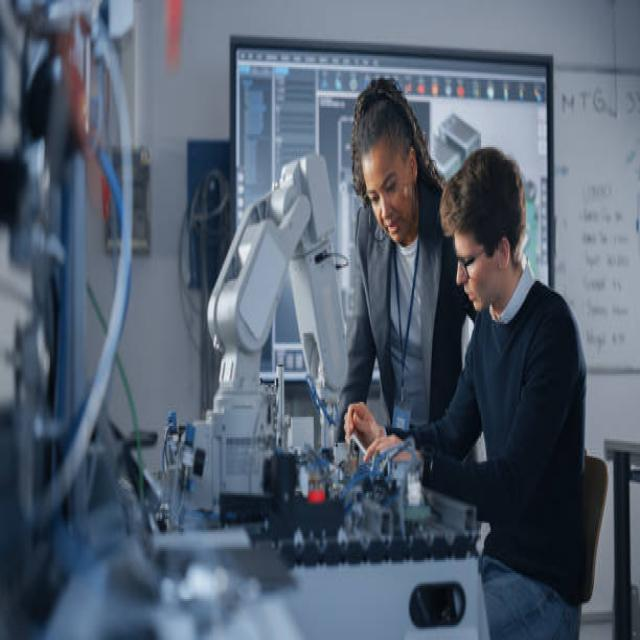Robotic-arm: (203, 142, 353, 494)
